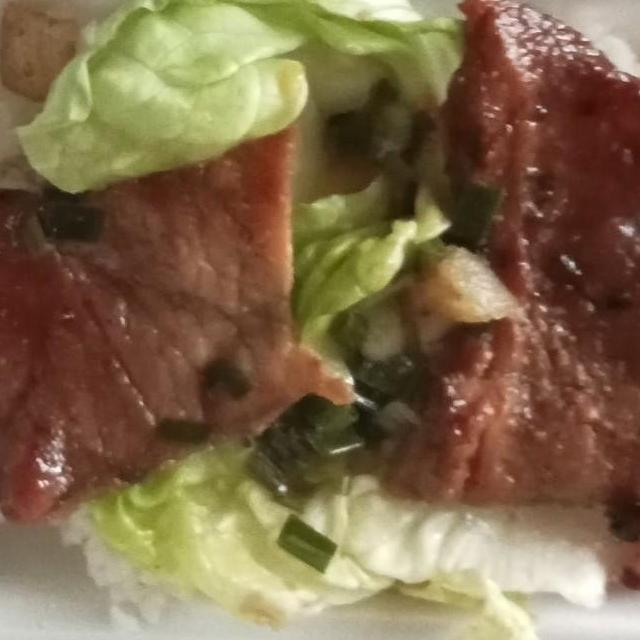com: (0, 9, 58, 234)
suon: (0, 57, 360, 562), (371, 0, 640, 599)
